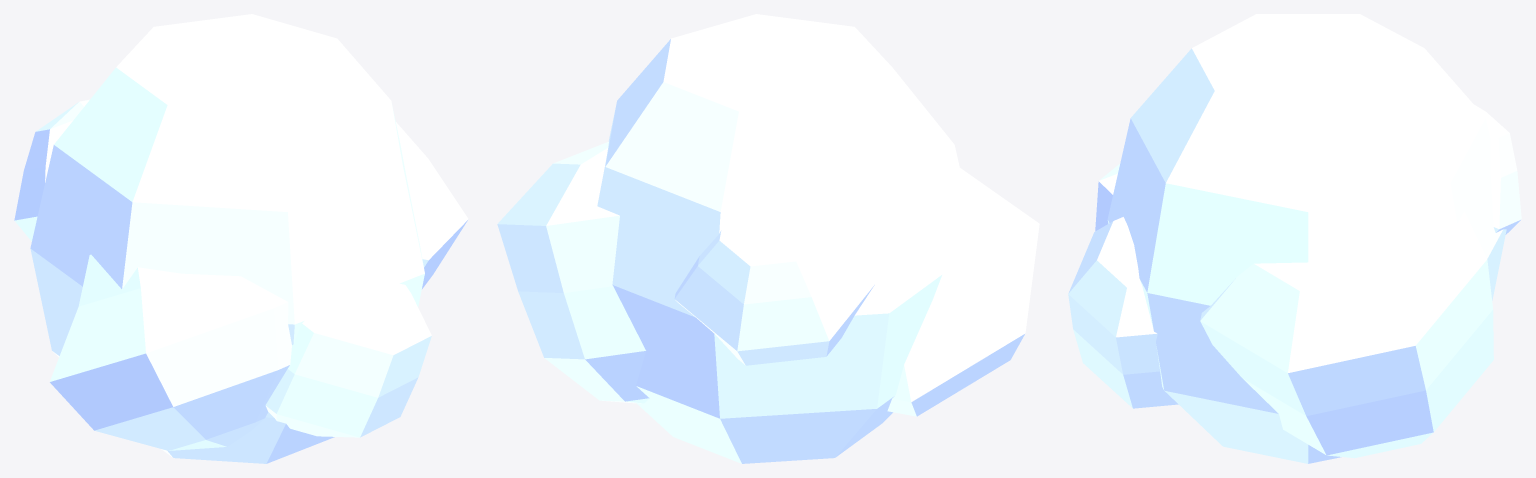
The model's file is RelicMoonstone.fbx.
The picture shows the model from 3 angles, left to right: view 1: azimuth 30°, elevation 25°; view 2: azimuth 150°, elevation 25°; view 3: azimuth 270°, elevation 25°; orthographic projection.
Visible parts, largest first — view 1: RelicMoonstone; view 2: RelicMoonstone; view 3: RelicMoonstone.
Part boxes in pixels (x1,y1,x2,y2): RelicMoonstone: (14,14,468,463); RelicMoonstone: (497,14,1039,463); RelicMoonstone: (1068,14,1521,463).
Bounding box in the file's own units: 0.2136 × 0.19 × 0.1887.
